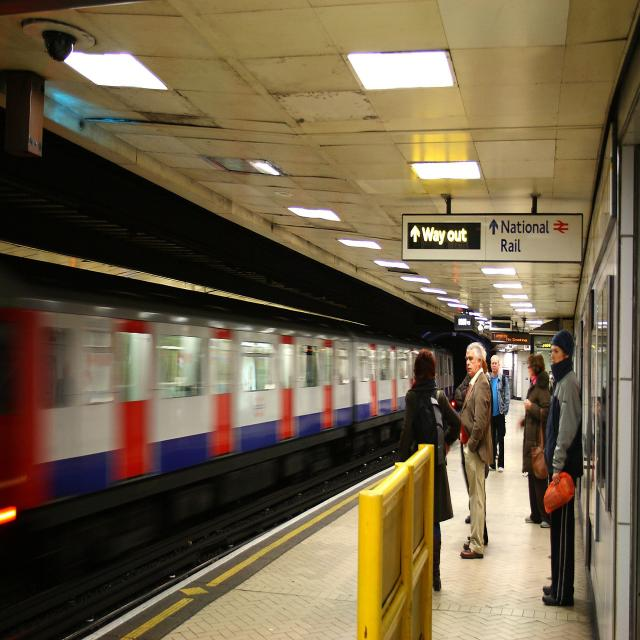body: (398, 348, 462, 592), (541, 328, 584, 608), (458, 340, 494, 560), (456, 350, 494, 548), (452, 340, 492, 526), (514, 352, 552, 530), (582, 377, 611, 494), (488, 353, 511, 473), (546, 370, 556, 396), (493, 450, 502, 467)
